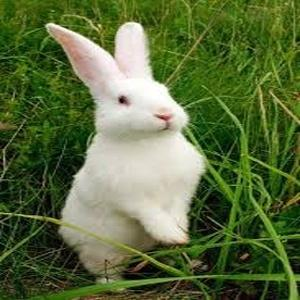rabbit: (47, 22, 204, 250), (60, 226, 130, 282)
